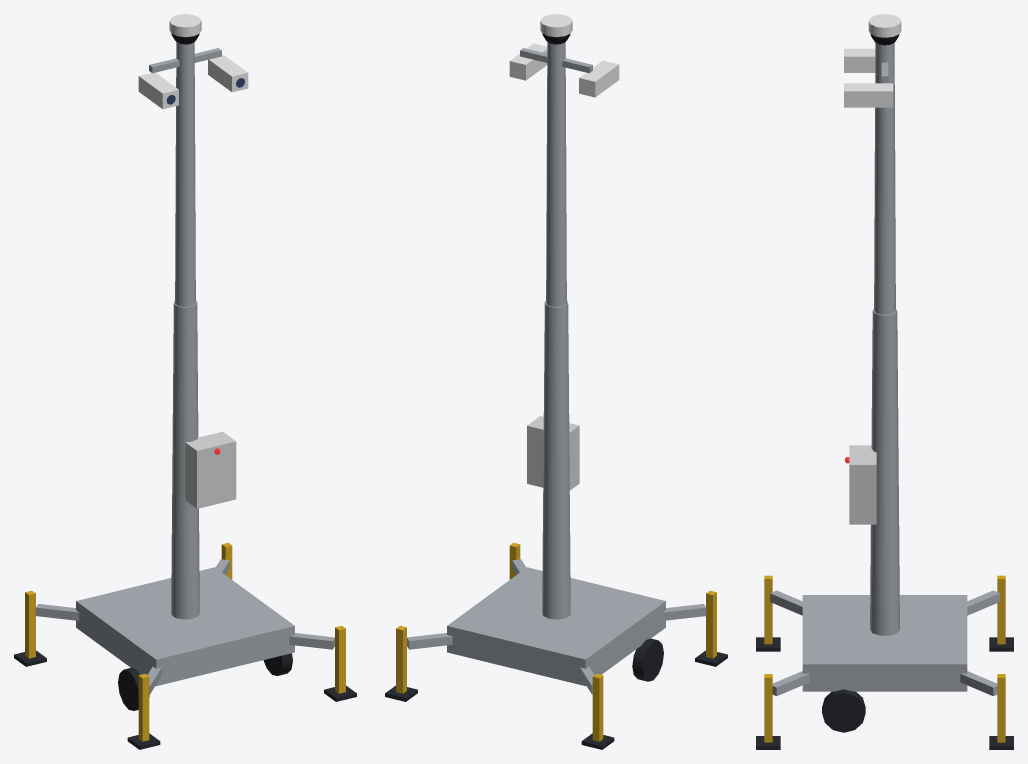
The model's file is prop_camera_mast.glb.
3 views of the same model, side by side, from view 1: azimuth 30°, elevation 25°; view 2: azimuth 150°, elevation 25°; view 3: azimuth 270°, elevation 25° (orthographic). The views are drawn at different scales.
Visible parts, largest first — view 1: object 1, object 16, object 17, object 18, cam_pivot_1, cam_pivot_2, cam_pivot_3, object 8, object 2, object 5, object 14, object 4 (+2 smaller); view 2: object 1, object 16, object 17, object 18, object 2, cam_pivot_1, cam_pivot_3, object 14, cam_pivot_2, object 11, object 8, object 10 (+2 smaller); view 3: object 1, object 16, object 17, object 18, object 3, cam_pivot_2, cam_pivot_3, cam_pivot_1, object 5, object 11, object 8, object 14 (+4 smaller).
Boxes of the visible parts, x1,y1,x2,y2 form: object 1: (76, 567, 294, 686); object 16: (171, 300, 199, 619); object 17: (175, 42, 195, 306); object 18: (185, 431, 236, 508); cam_pivot_1: (138, 72, 178, 109); cam_pivot_2: (208, 55, 248, 92); cam_pivot_3: (169, 14, 201, 44); object 8: (138, 673, 149, 741); object 2: (118, 668, 149, 710); object 5: (335, 625, 345, 693); object 14: (25, 590, 35, 658); object 4: (289, 633, 334, 649); object 1: (447, 567, 665, 686); object 16: (542, 300, 570, 619); object 17: (546, 42, 566, 306); object 18: (527, 416, 579, 490); object 2: (632, 638, 663, 681); cam_pivot_1: (579, 60, 619, 97); cam_pivot_3: (540, 14, 572, 44); object 14: (592, 673, 603, 741); cam_pivot_2: (509, 43, 547, 80); object 11: (396, 625, 406, 693); object 8: (706, 590, 716, 658); object 10: (407, 633, 452, 649); object 1: (802, 595, 967, 691); object 16: (870, 309, 899, 635); object 17: (874, 43, 895, 314); object 18: (849, 445, 876, 524); object 3: (822, 689, 865, 732); cam_pivot_2: (844, 83, 893, 107); cam_pivot_3: (868, 14, 901, 45); cam_pivot_1: (844, 48, 875, 72); object 5: (764, 674, 772, 742); object 11: (997, 674, 1005, 742); object 8: (764, 575, 772, 644); object 14: (997, 575, 1005, 644).
Bounding box in the file's own units: 1.88 × 5.43 × 1.88.
